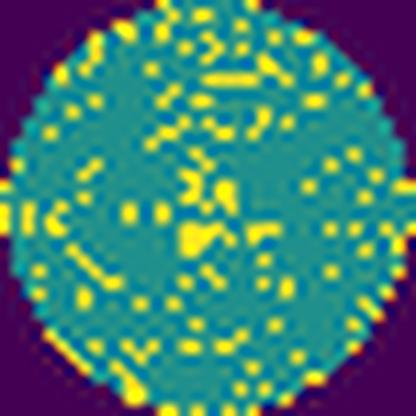Center: (174, 166, 239, 263)
